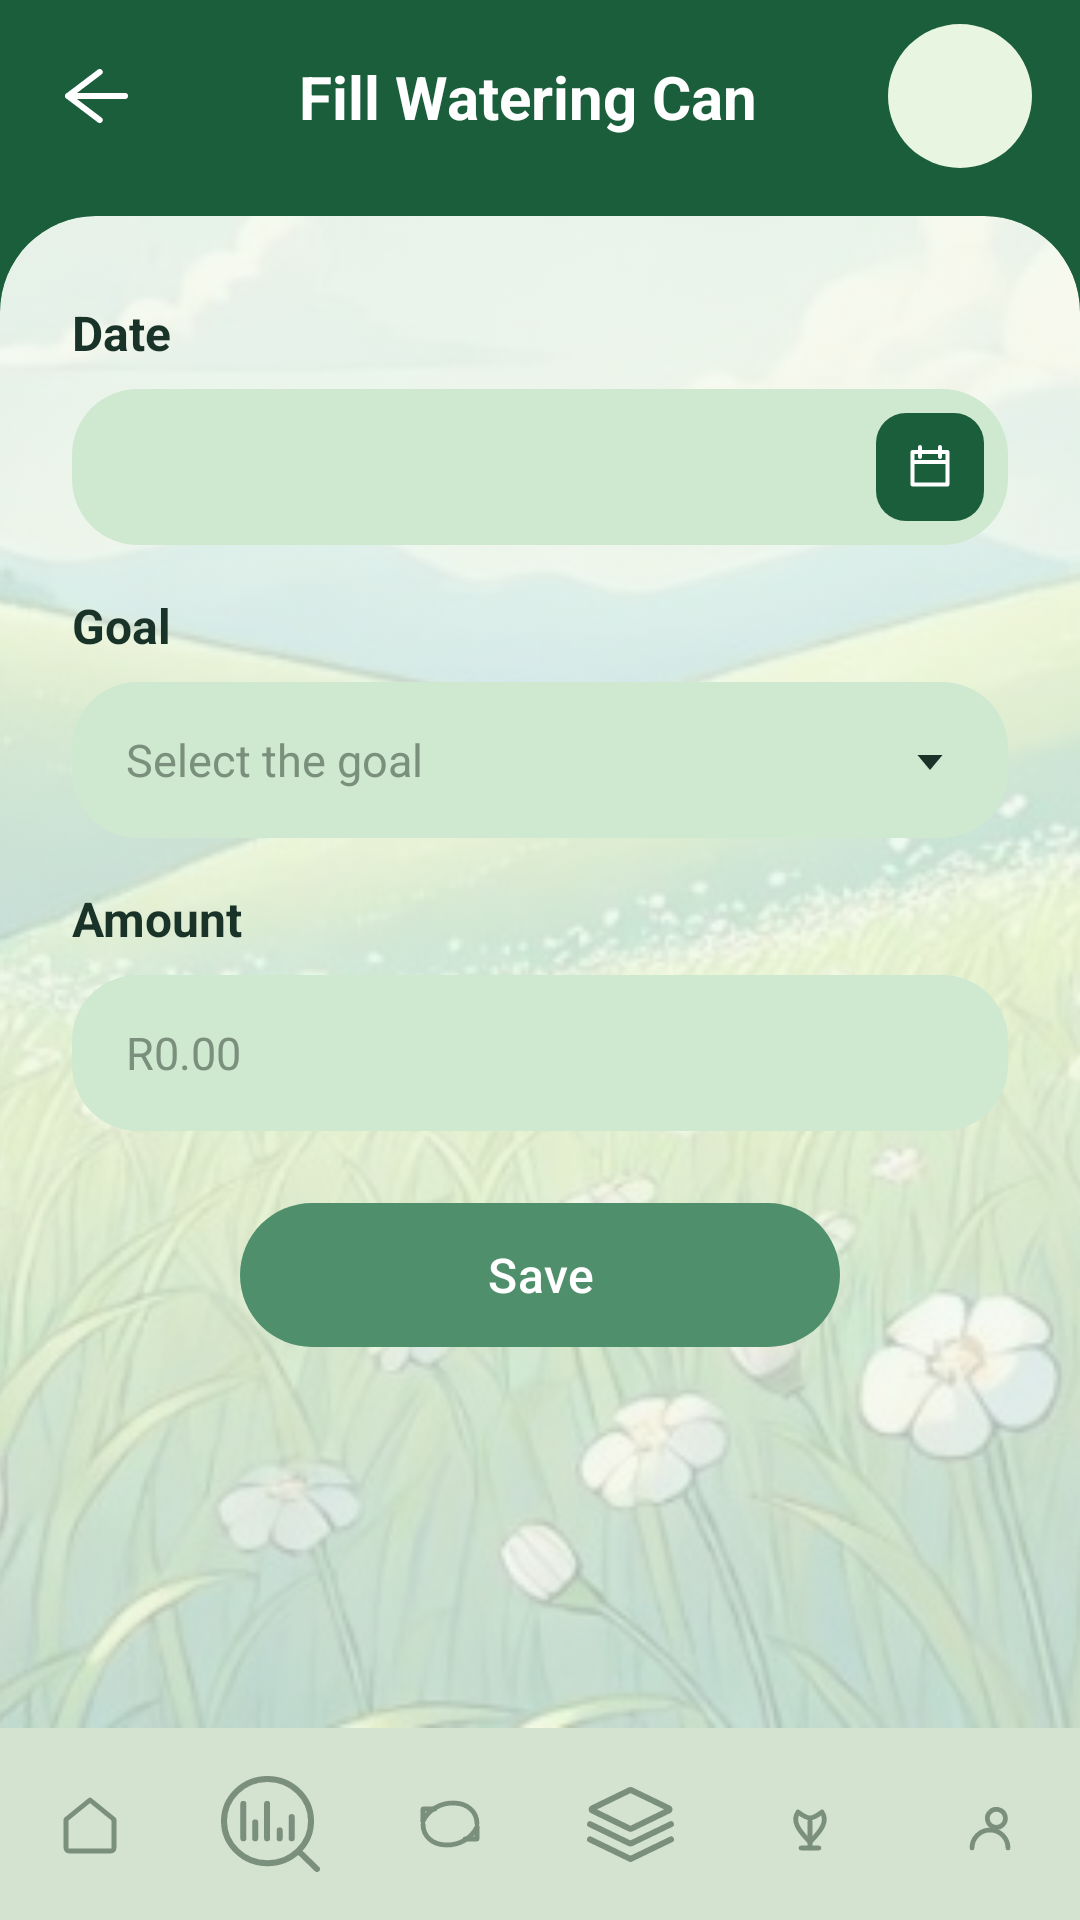

Screen size 1080×1920. Icon name, then its box in pixels as (x1=x1, y1=y1, x2=x2, y2=y2):
Analytics: (x1=221, y1=1776, x2=320, y2=1872)
Back: (x1=65, y1=69, x2=128, y2=123)
Categories: (x1=587, y1=1787, x2=674, y2=1862)
Choose date: (x1=876, y1=413, x2=984, y2=521)
Goals: (x1=793, y1=1809, x2=827, y2=1851)
Home: (x1=63, y1=1797, x2=117, y2=1854)
Profile: (x1=969, y1=1807, x2=1011, y2=1850)
